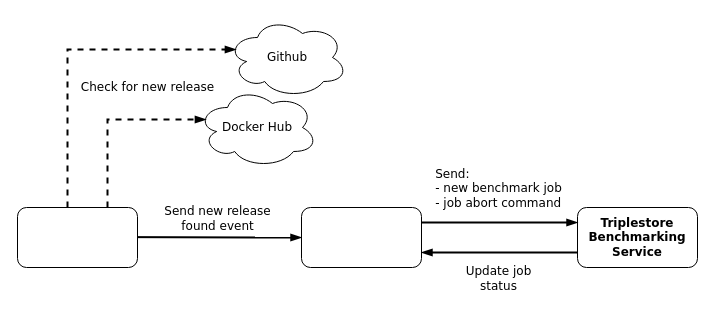
This 715x310 diagram has some shape labels left out. The shapes that lost their labels are listed below. From the top down, each one's centre as x and y in pixels, then its label:
At point 77,237: "Hooks Checking Service".
At point 361,237: "Jobs Managing Service".
